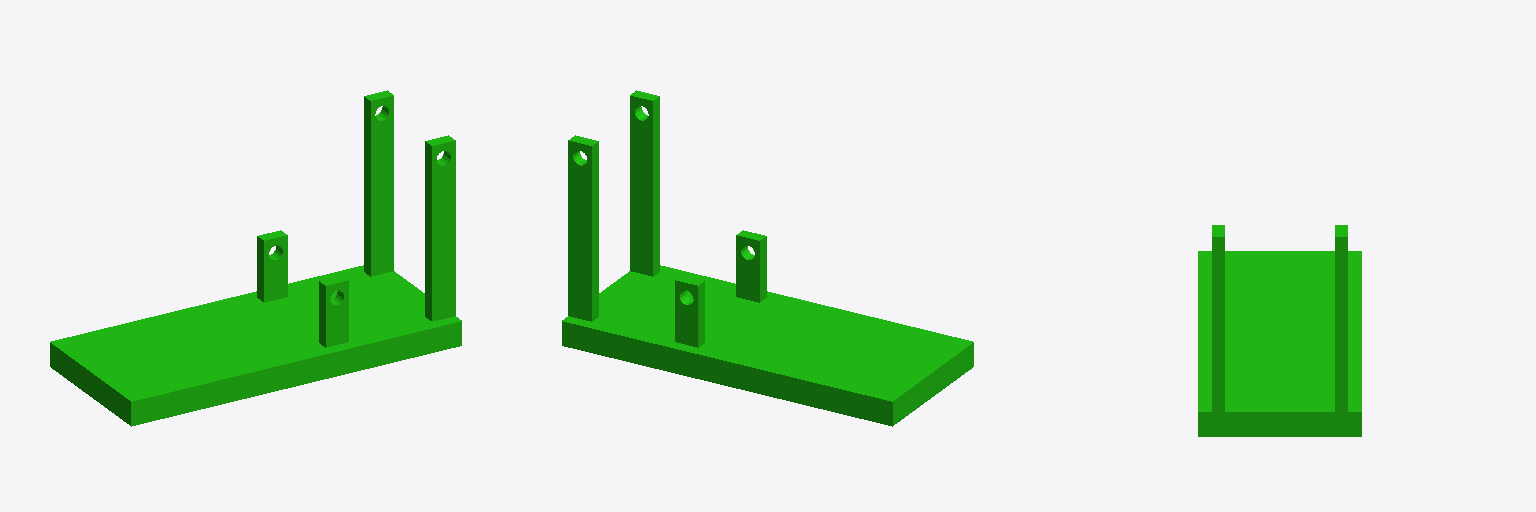
3 views of the same model, side by side, from view 1: azimuth 30°, elevation 25°; view 2: azimuth 150°, elevation 25°; view 3: azimuth 270°, elevation 25° (orthographic).
Parts seen in each view (by area): view 1: base; view 2: base; view 3: base.
Boxes of the visible parts, x1,y1,x2,y2 form: base: [50, 90, 461, 426]; base: [562, 90, 973, 426]; base: [1198, 225, 1361, 436].
Bounding box in the file's own units: 1.4 × 0.81 × 0.6.